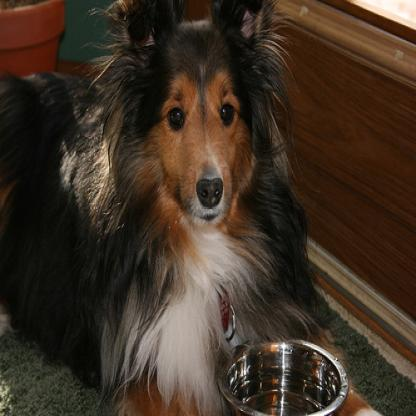Shetland_sheepdog: (0, 0, 329, 413)
